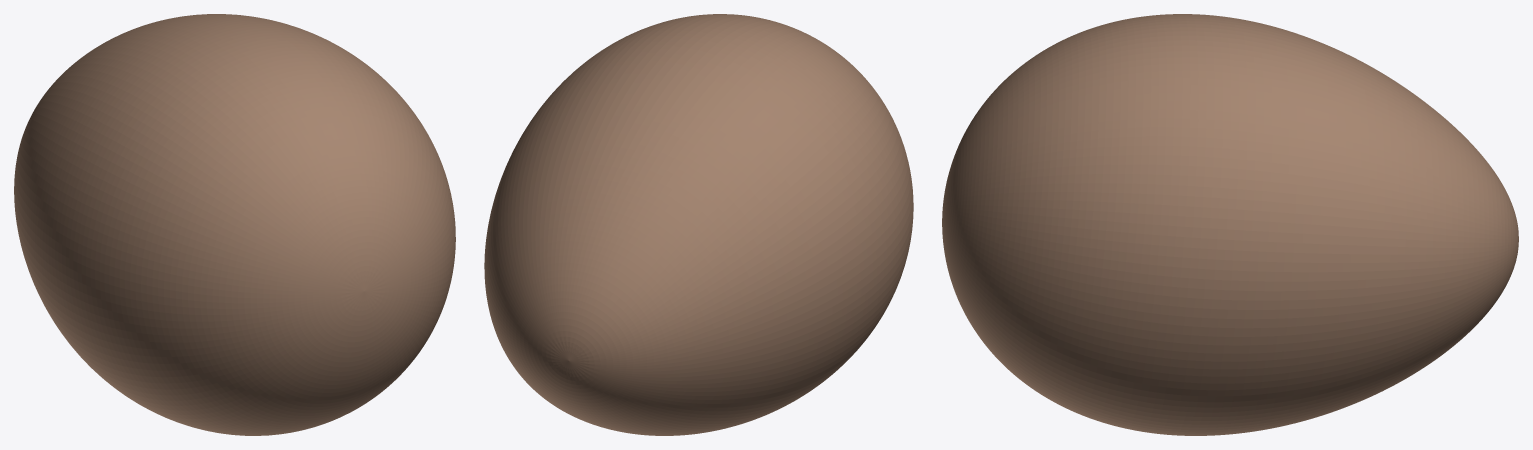
File: food_1_egg.fbx
The picture shows the model from 3 angles, left to right: view 1: azimuth 30°, elevation 25°; view 2: azimuth 150°, elevation 25°; view 3: azimuth 270°, elevation 25°; orthographic projection. The views are drawn at different scales.
Parts seen in each view (by area): view 1: food_egg; view 2: food_egg; view 3: food_egg.
Part boxes in pixels (x1,y1,x2,y2): food_egg: (14,14,455,435); food_egg: (484,14,913,435); food_egg: (942,14,1518,435).
Size of the model in its own units: 30.74 by 31.11 by 42.25.
